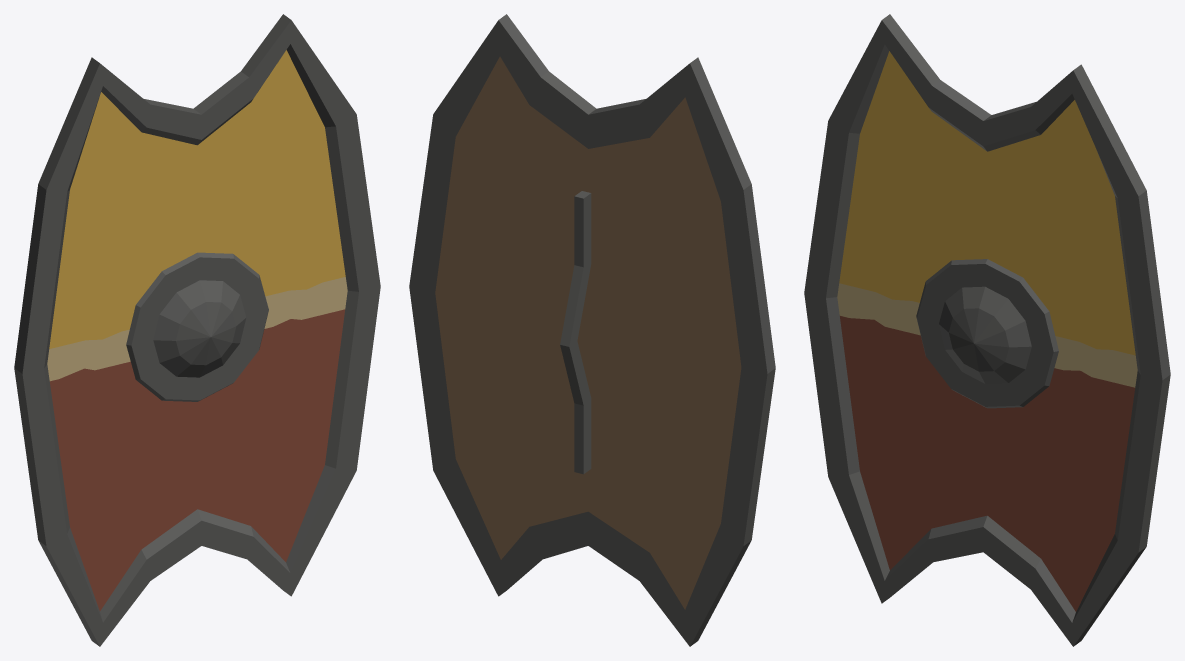
The model's file is SM_pwe_gauls_shield_09b.fbx.
3 views of the same model, side by side, from view 1: azimuth 30°, elevation 25°; view 2: azimuth 150°, elevation 25°; view 3: azimuth 330°, elevation 25° (orthographic).
Parts seen in each view (by area): view 1: SM_pwe_gauls_shield_09b; view 2: SM_pwe_gauls_shield_09b; view 3: SM_pwe_gauls_shield_09b.
Part boxes in pixels (left/top/right/bottom): SM_pwe_gauls_shield_09b: left=14, top=14, right=380, bottom=646; SM_pwe_gauls_shield_09b: left=409, top=14, right=775, bottom=646; SM_pwe_gauls_shield_09b: left=804, top=14, right=1170, bottom=646.
Bounding box in the file's own units: 59.01 × 91.87 × 11.28.
